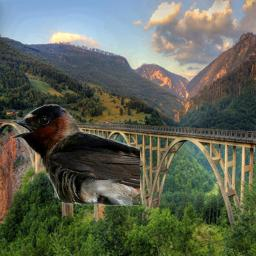Swallow: (10, 104, 140, 206)
